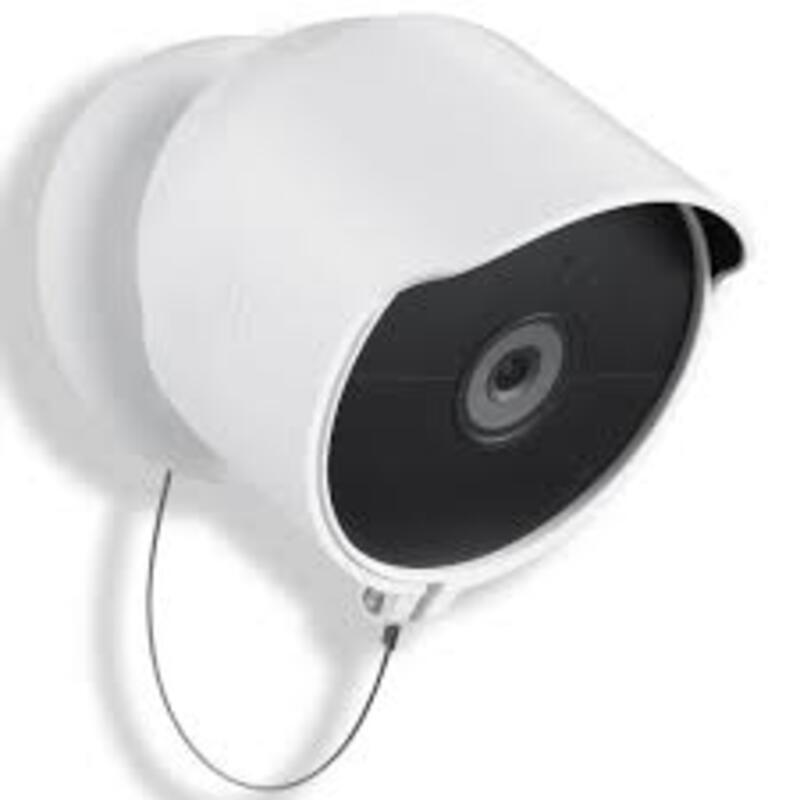nest: (112, 19, 763, 620)
